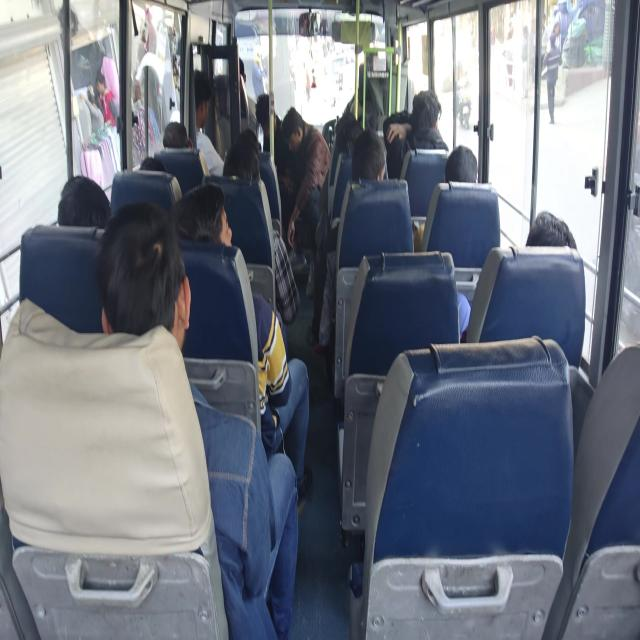person: (97, 201, 299, 638), (173, 182, 311, 499), (307, 128, 387, 350), (458, 210, 577, 342), (417, 144, 479, 340), (281, 106, 331, 296), (384, 89, 448, 151), (192, 70, 225, 176), (255, 92, 289, 182), (57, 175, 111, 228), (525, 210, 577, 249), (351, 129, 387, 182), (542, 33, 561, 123), (222, 138, 260, 182), (444, 145, 478, 183), (95, 72, 118, 126), (162, 121, 190, 148)
